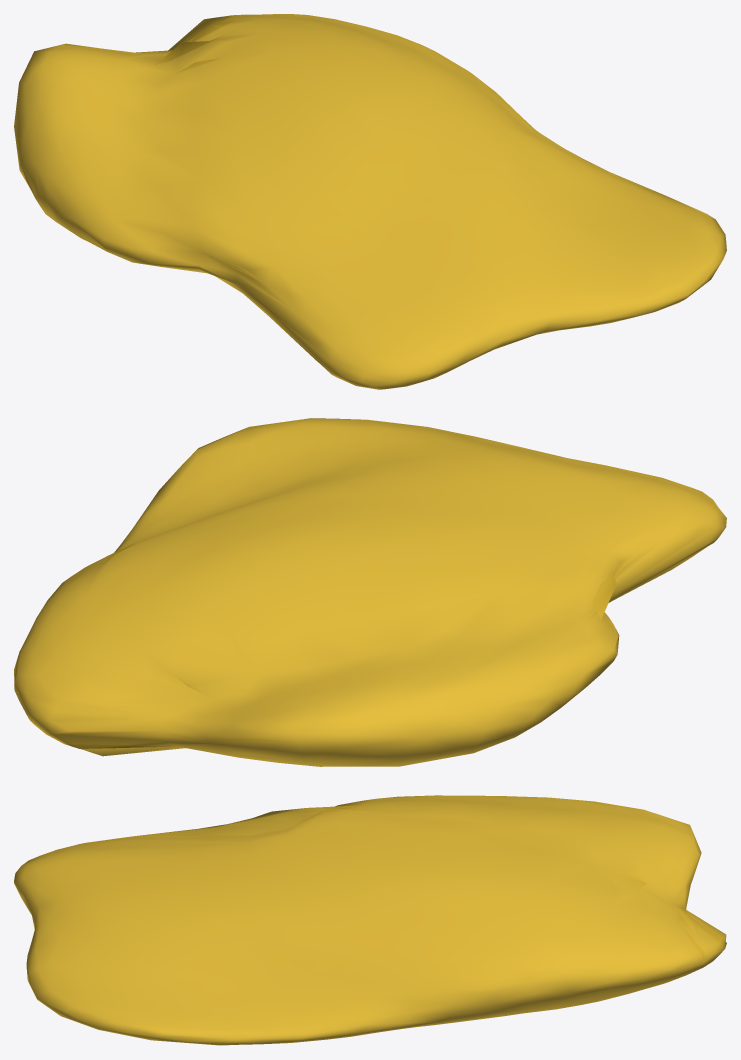
Rendered from beategg.fbx.
3 renders of one model, top to bottom at view 1: azimuth 30°, elevation 25°; view 2: azimuth 150°, elevation 25°; view 3: azimuth 270°, elevation 25°, orthographic. The views are drawn at different scales.
Visible parts, largest first — view 1: Eggwhite; view 2: Eggwhite; view 3: Eggwhite.
Part boxes in pixels (<box>): Eggwhite: <box>14,14,726,389</box>; Eggwhite: <box>14,418,726,766</box>; Eggwhite: <box>14,795,726,1045</box>.
Size of the model in its own units: 35.44 by 8.9 by 48.41.
